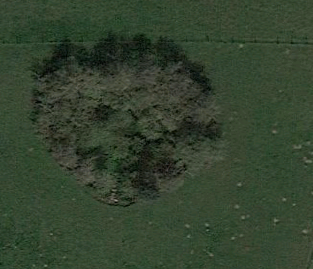tree: (26, 47, 233, 214)
